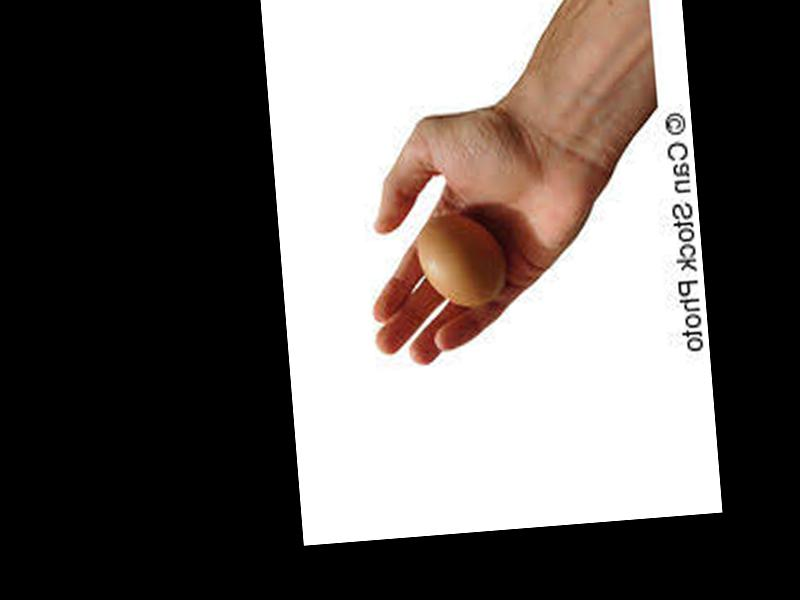Eggs: (418, 214, 507, 311)
